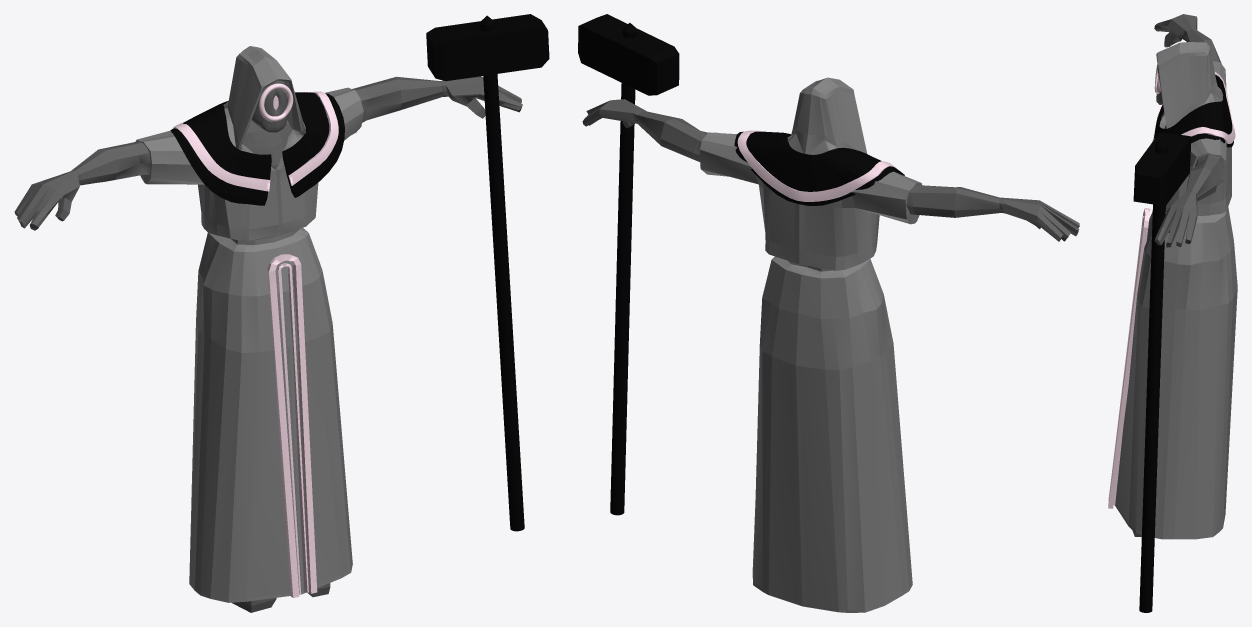
File: cyberclops1.fbx
The picture shows the model from 3 angles, left to right: view 1: azimuth 30°, elevation 25°; view 2: azimuth 150°, elevation 25°; view 3: azimuth 270°, elevation 25°; orthographic projection. The views are drawn at different scales.
Visible parts, largest first — view 1: robes, hammer, bodyfeet, shoulderguard, robelights, head; view 2: robes, hammer, bodyfeet, shoulderguard; view 3: robes, hammer, bodyfeet, shoulderguard, robelights.
Part boxes in pixels (<box>): robes: <box>136,46,363,602</box>; hammer: <box>426,14,549,531</box>; bodyfeet: <box>14,76,522,612</box>; shoulderguard: <box>170,91,344,205</box>; robelights: <box>267,254,317,597</box>; head: <box>251,80,293,132</box>; robes: <box>700,77,921,612</box>; hammer: <box>578,14,679,515</box>; bodyfeet: <box>582,99,1079,241</box>; shoulderguard: <box>734,130,904,205</box>; robes: <box>1115,42,1237,539</box>; hammer: <box>1133,132,1191,612</box>; bodyfeet: <box>1132,14,1224,536</box>; shoulderguard: <box>1152,71,1235,147</box>; robelights: <box>1108,208,1150,508</box>.
Size of the model in its own units: 449 by 438 by 108.
